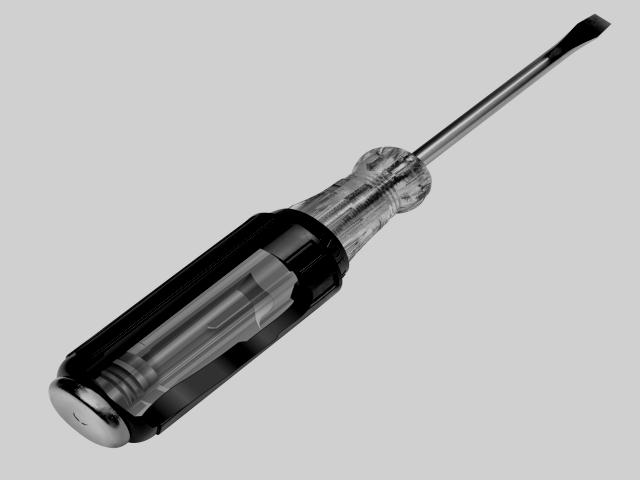Screwdriver: (49, 14, 609, 448)
